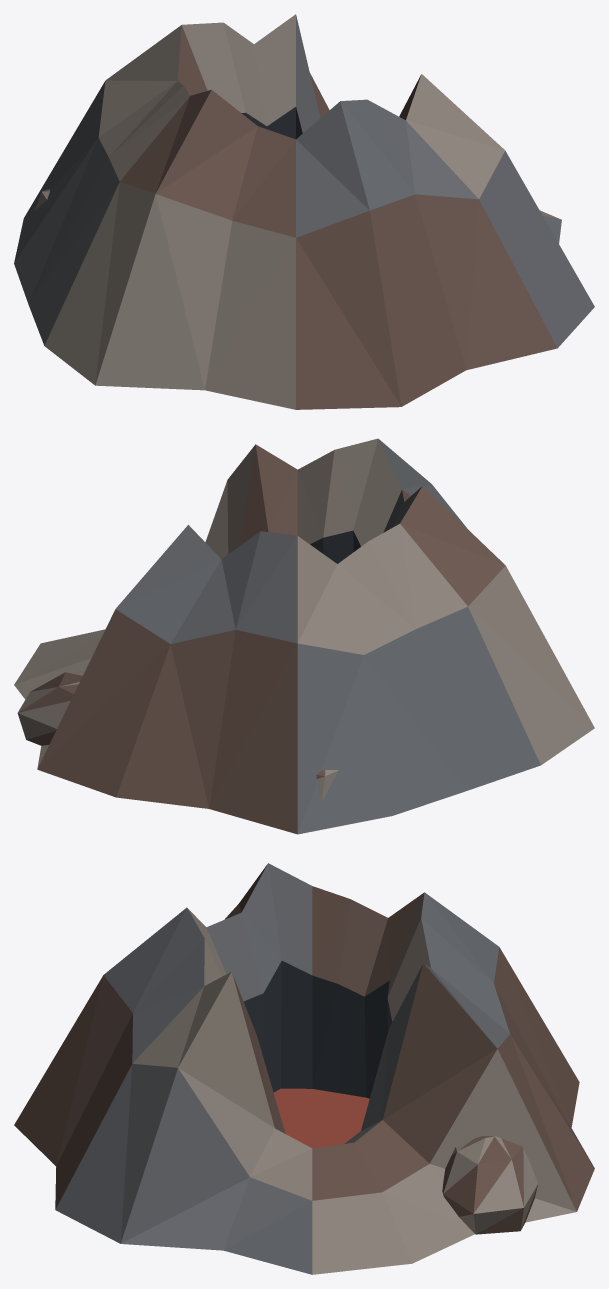
The model's file is AE_Volcano_BrokenCrater.fbx.
3 renders of one model, top to bottom at view 1: azimuth 30°, elevation 25°; view 2: azimuth 150°, elevation 25°; view 3: azimuth 270°, elevation 25°, orthographic. The views are drawn at different scales.
Visible parts, largest first — view 1: AE_Volcano_BrokenCrater; view 2: AE_Volcano_BrokenCrater; view 3: AE_Volcano_BrokenCrater.
Part boxes in pixels (x1,y1,x2,y2): AE_Volcano_BrokenCrater: (14,14,594,409); AE_Volcano_BrokenCrater: (14,438,594,834); AE_Volcano_BrokenCrater: (14,863,594,1274).
Bounding box in the file's own units: 1.67 × 0.7302 × 1.65.
